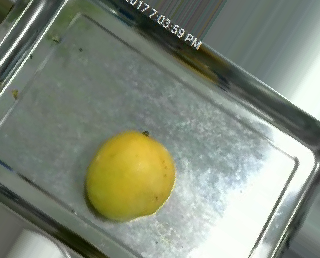Mango: (86, 127, 176, 220)
